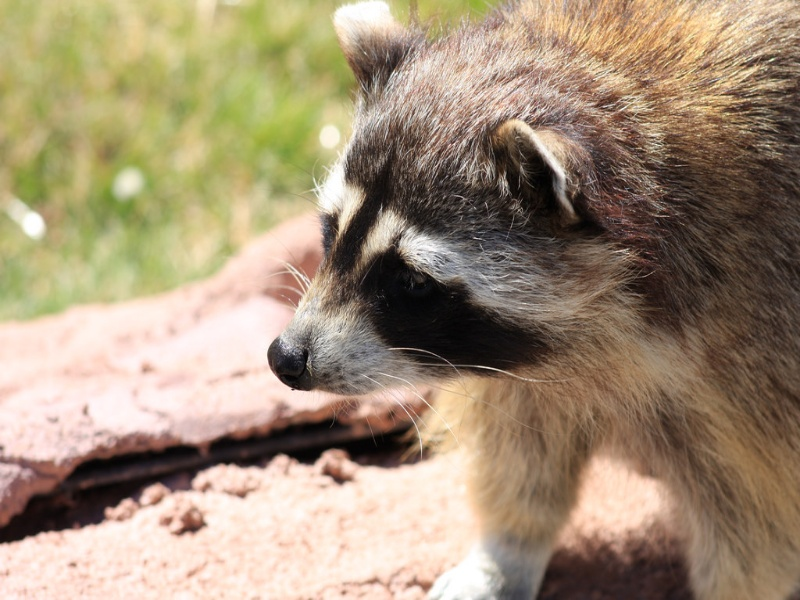raccoon: (263, 4, 797, 598)
